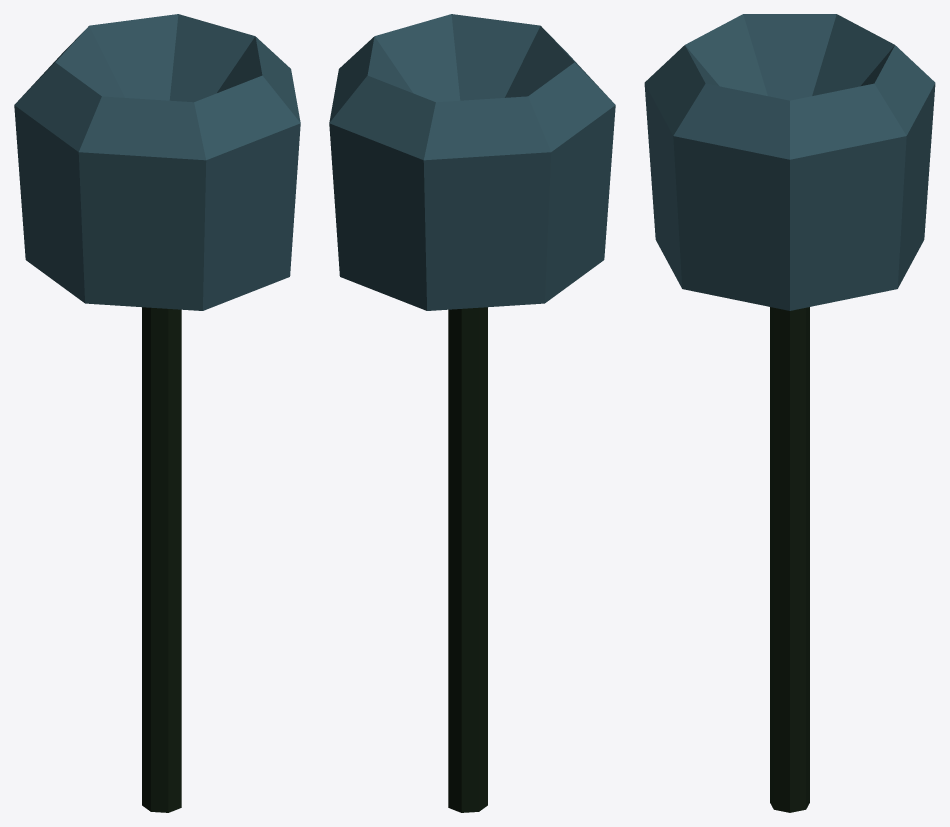
Rendered from Flower_Bluebell_Single_01.fbx.
The picture shows the model from 3 angles, left to right: view 1: azimuth 30°, elevation 25°; view 2: azimuth 150°, elevation 25°; view 3: azimuth 270°, elevation 25°; orthographic projection.
Visible parts, largest first — view 1: Flower_Bluebell_Single_01_Mesh; view 2: Flower_Bluebell_Single_01_Mesh; view 3: Flower_Bluebell_Single_01_Mesh.
Part boxes in pixels (x1,y1,x2,y2): Flower_Bluebell_Single_01_Mesh: (14, 14, 300, 812); Flower_Bluebell_Single_01_Mesh: (329, 14, 615, 812); Flower_Bluebell_Single_01_Mesh: (644, 14, 935, 812).
Size of the model in its own units: 0.1236 by 0.36 by 0.1267.
Materials: 1 (1 with a texture image).
